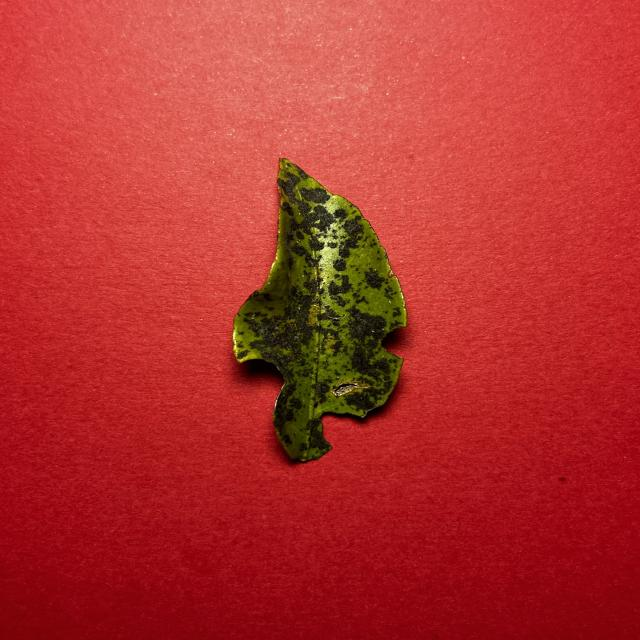sooty_mold: (233, 158, 406, 461)
